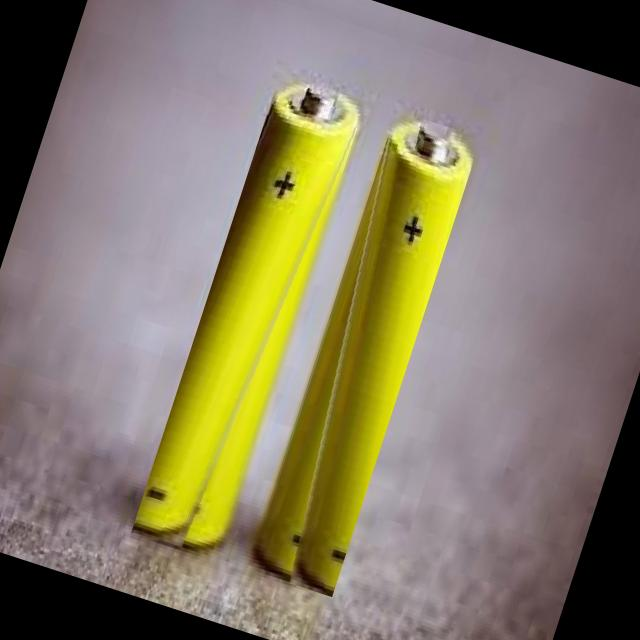Hazard: (131, 74, 368, 562), (245, 112, 480, 598)
